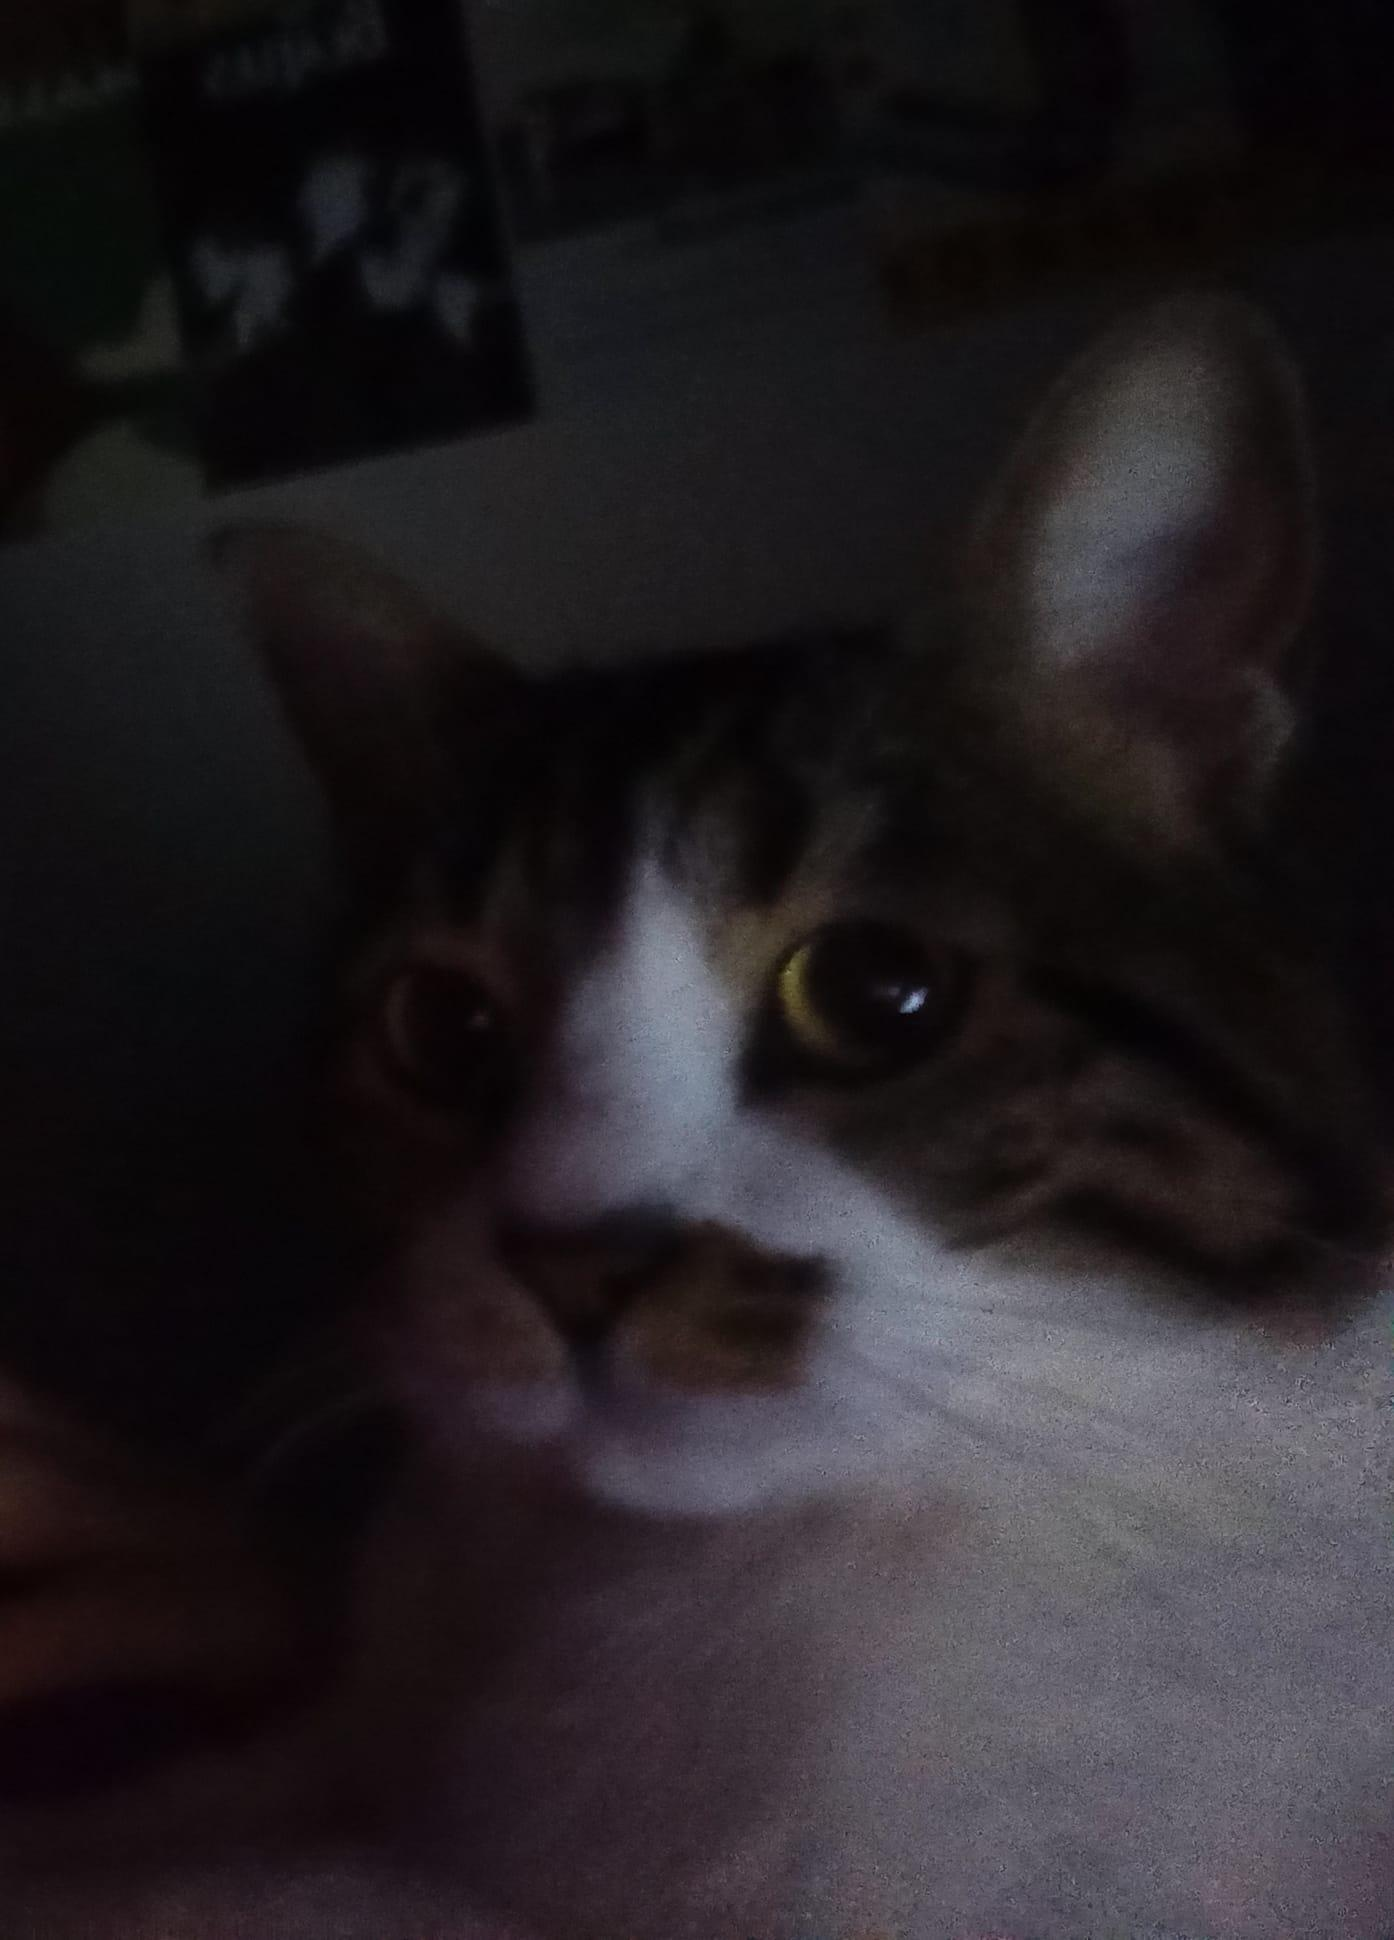kedo: (209, 288, 1394, 1935)
